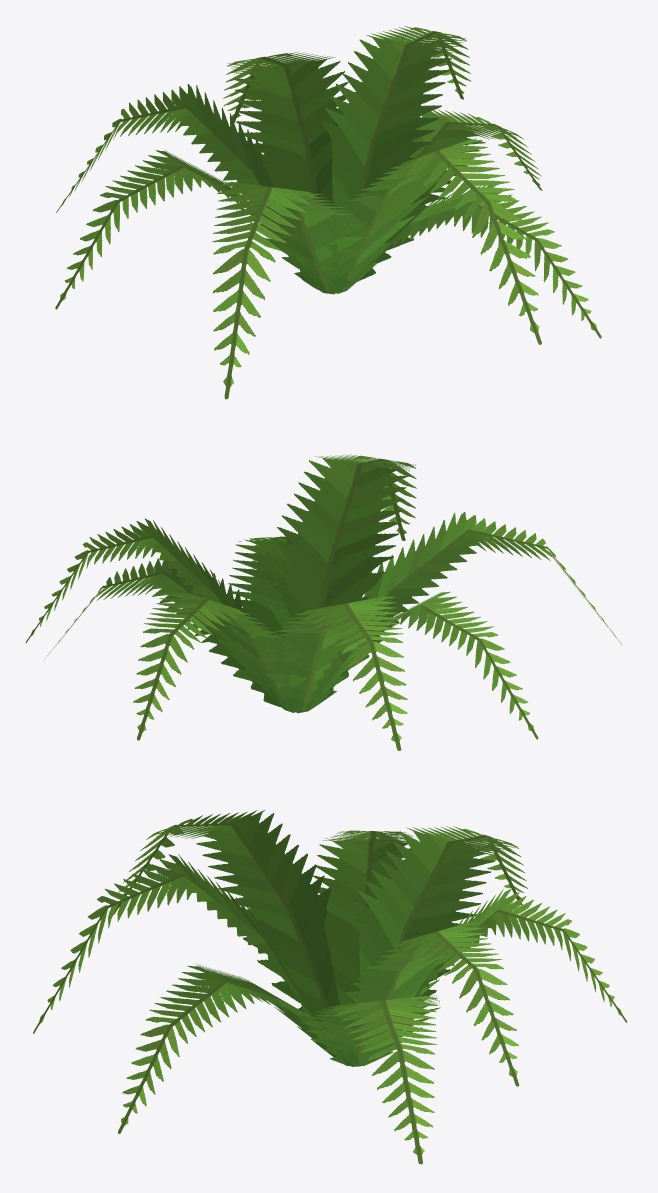
Rendered from Grass_Fern_A.fbx.
3 views of the same model, one above another, from view 1: azimuth 30°, elevation 25°; view 2: azimuth 150°, elevation 25°; view 3: azimuth 270°, elevation 25° (orthographic). The views are drawn at different scales.
Parts seen in each view (by area): view 1: Grass_Fern_A_LOD0; view 2: Grass_Fern_A_LOD0; view 3: Grass_Fern_A_LOD0.
Boxes of the visible parts, x1,y1,x2,y2 form: Grass_Fern_A_LOD0: (55,26,601,399); Grass_Fern_A_LOD0: (25,454,621,750); Grass_Fern_A_LOD0: (33,810,626,1164).
Size of what is drawn, in the model's own units: 1.31 by 0.455 by 1.31.
